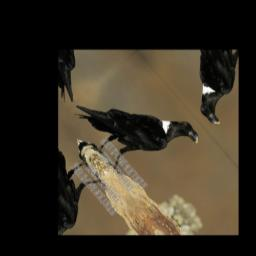Crow: (63, 56, 203, 198)
